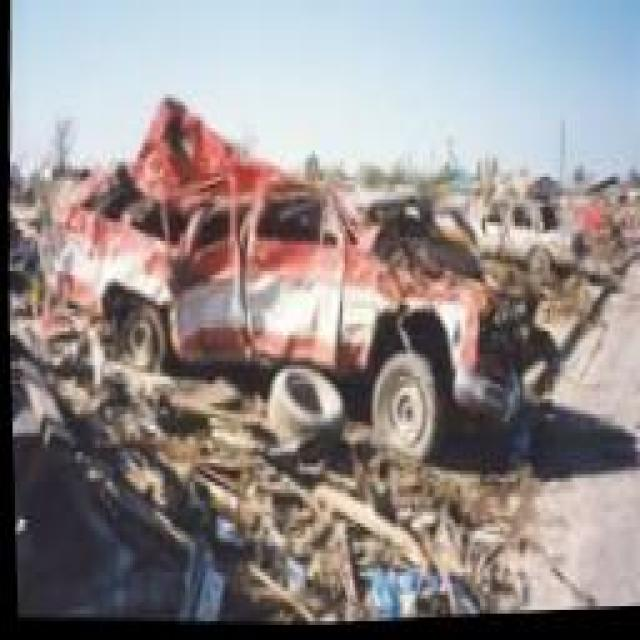Bumper: (478, 306, 545, 420)
Door: (170, 188, 341, 357)
Fender: (365, 267, 470, 385), (68, 215, 157, 313)
